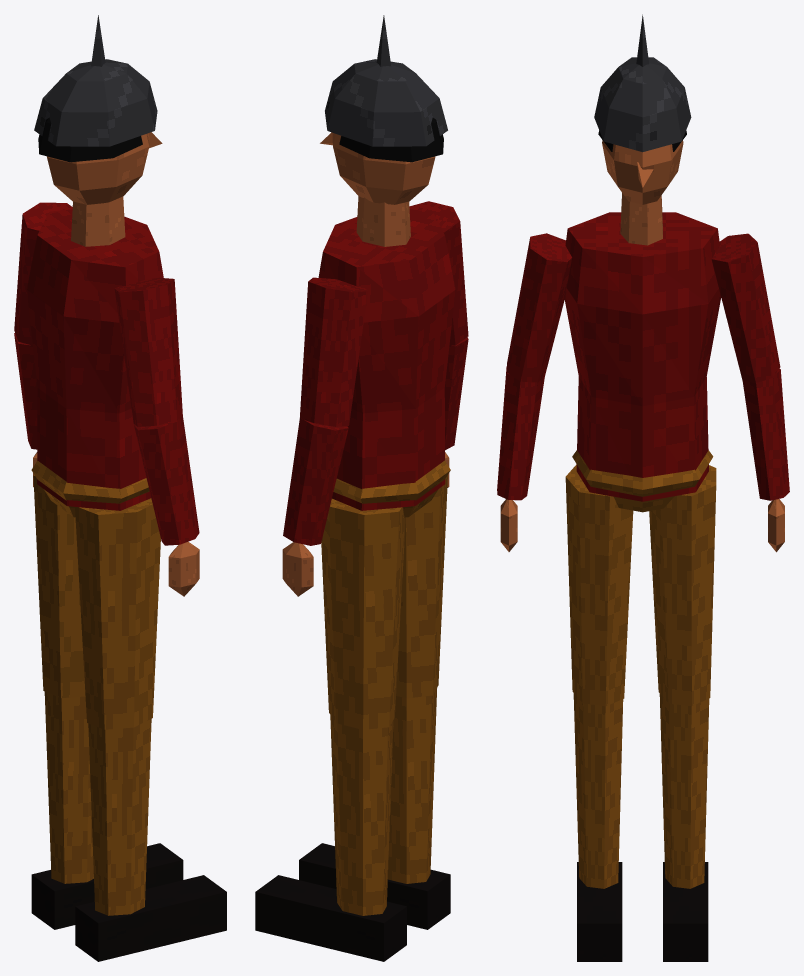
File: ballestero.glb
The picture shows the model from 3 angles, left to right: view 1: azimuth 30°, elevation 25°; view 2: azimuth 150°, elevation 25°; view 3: azimuth 270°, elevation 25°; orthographic projection.
Parts seen in each view (by area): view 1: torso, muslo_der, pierna_der, casco, muslo_izq, brazo_der, pierna_izq, pie_der, antebrazo_der, cabeza, pie_izq, brazo_izq (+5 smaller); view 2: torso, muslo_izq, pierna_izq, casco, muslo_der, brazo_izq, pie_izq, pierna_der, antebrazo_izq, cabeza, pie_der, brazo_der (+5 smaller); view 3: torso, muslo_der, muslo_izq, pierna_der, pierna_izq, casco, brazo_izq, brazo_der, antebrazo_izq, antebrazo_der, pie_izq, pie_der (+5 smaller).
Part boxes in pixels (x1=…): torso: x1=26, y1=209, x2=163, y2=510; muslo_der: x1=75, y1=498, x2=160, y2=729; pierna_der: x1=88, y1=719, x2=151, y2=915; casco: x1=34, y1=15, x2=157, y2=146; muslo_izq: x1=33, y1=474, x2=85, y2=697; brazo_der: x1=114, y1=277, x2=182, y2=426; pierna_izq: x1=44, y1=691, x2=93, y2=883; pie_der: x1=75, y1=875, x2=226, y2=961; antebrazo_der: x1=134, y1=416, x2=199, y2=545; cabeza: x1=47, y1=132, x2=162, y2=204; pie_izq: x1=31, y1=843, x2=183, y2=929; brazo_izq: x1=14, y1=202, x2=72, y2=345; torso: x1=318, y1=209, x2=455, y2=510; muslo_izq: x1=321, y1=498, x2=405, y2=729; pierna_izq: x1=330, y1=715, x2=393, y2=915; casco: x1=325, y1=15, x2=447, y2=146; muslo_der: x1=396, y1=475, x2=447, y2=698; brazo_izq: x1=300, y1=277, x2=368, y2=426; pie_izq: x1=255, y1=875, x2=406, y2=961; pierna_der: x1=388, y1=688, x2=436, y2=883; antebrazo_izq: x1=283, y1=417, x2=348, y2=545; cabeza: x1=320, y1=132, x2=435, y2=204; pie_der: x1=299, y1=843, x2=450, y2=929; brazo_der: x1=409, y1=201, x2=468, y2=345; torso: x1=564, y1=212, x2=721, y2=501; muslo_der: x1=565, y1=464, x2=633, y2=706; muslo_izq: x1=649, y1=465, x2=716, y2=706; pierna_der: x1=573, y1=693, x2=623, y2=888; pierna_izq: x1=659, y1=694, x2=709, y2=888; casco: x1=594, y1=14, x2=691, y2=152; brazo_izq: x1=711, y1=233, x2=780, y2=383; brazo_der: x1=507, y1=233, x2=572, y2=382; antebrazo_izq: x1=742, y1=368, x2=789, y2=500; antebrazo_der: x1=497, y1=366, x2=544, y2=500; pie_izq: x1=663, y1=862, x2=708, y2=961; pie_der: x1=577, y1=862, x2=622, y2=961.
Bounding box in the file's own units: 0.3 × 1.7 × 0.5.
1 material, 1 textured.
